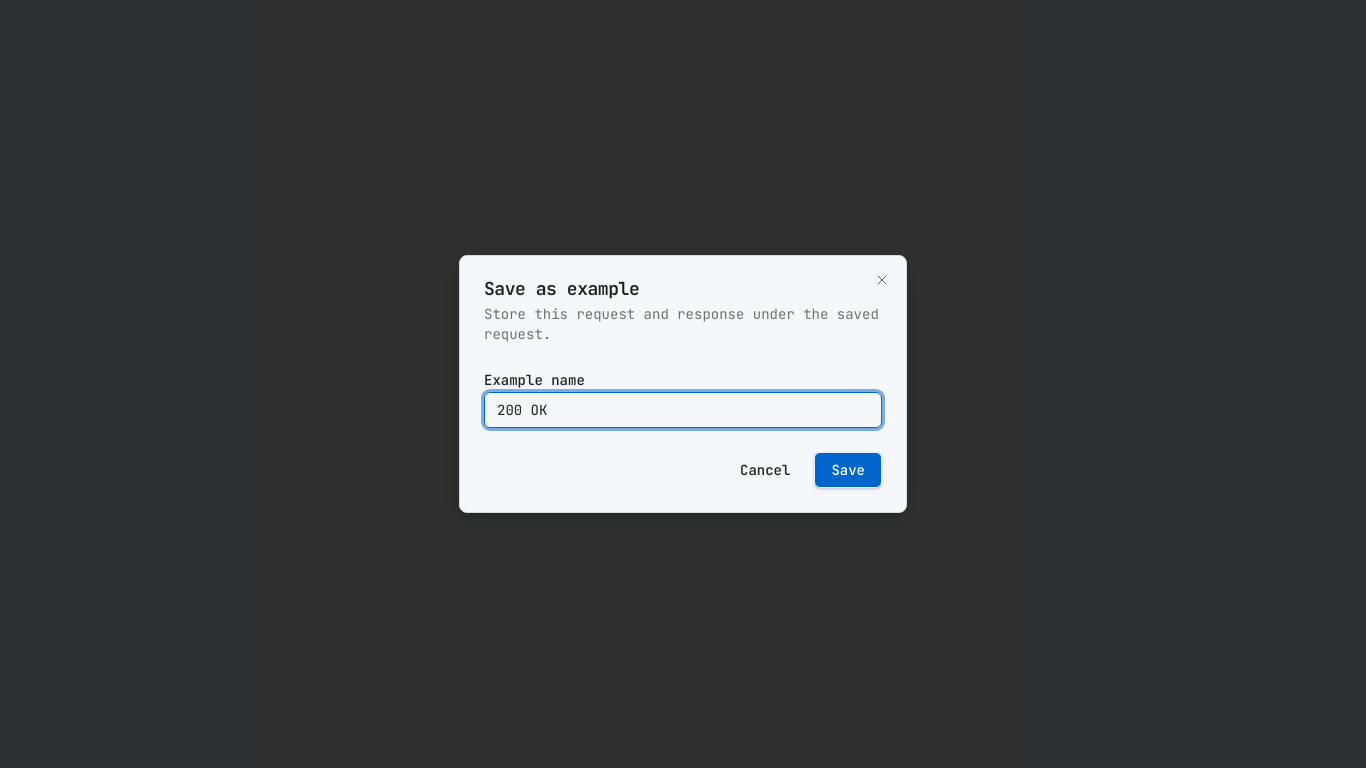
Test: SaveExampleDialog › shows_backend_error_and_stays_open
Click the button "Save". click: (848, 470)
box: [814, 452, 882, 488]
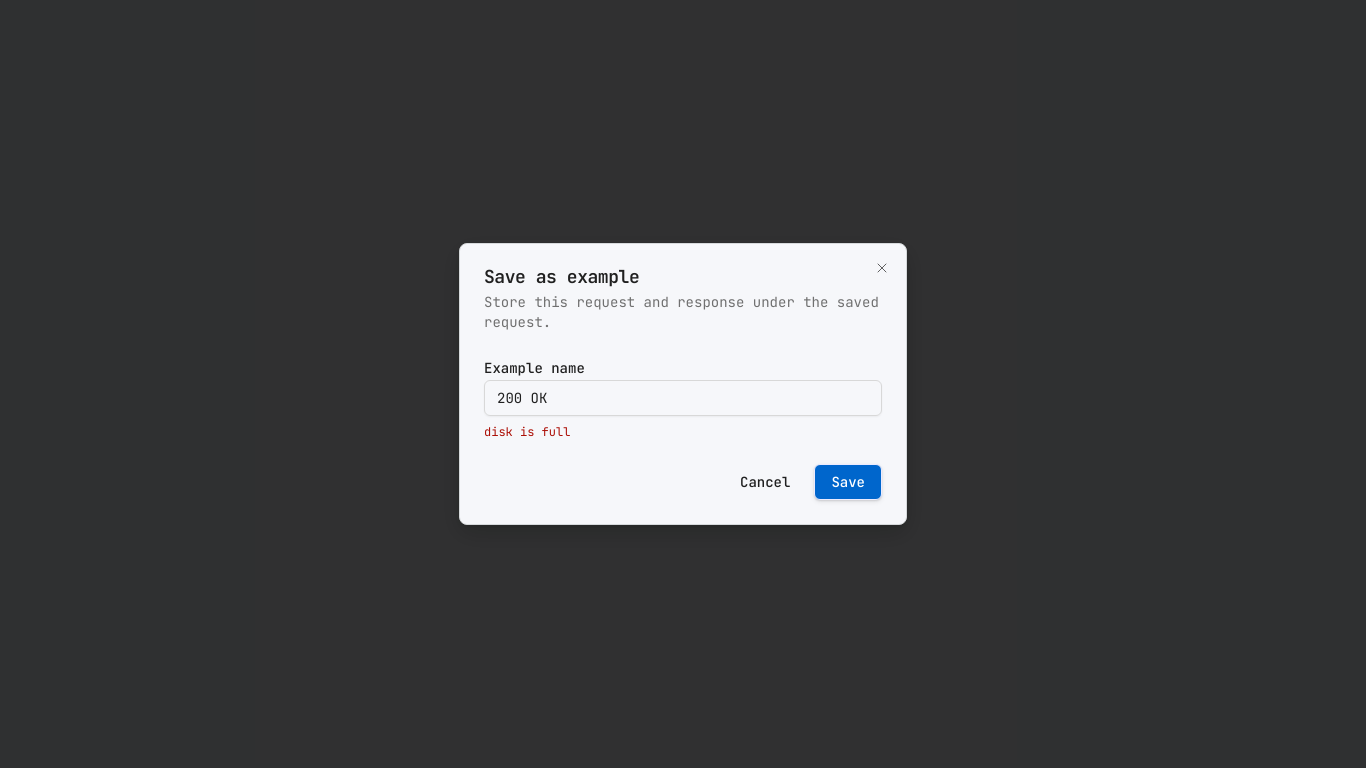
Check: the text "disk is full" is shown, box [484, 424, 570, 440]
